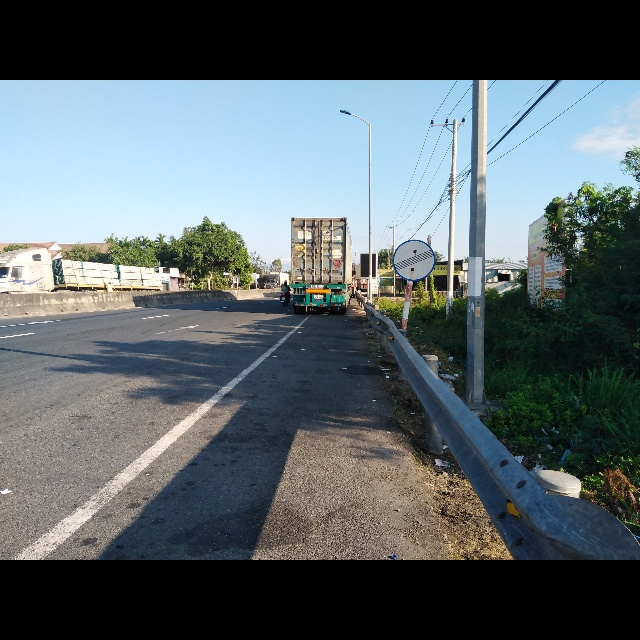Hết tất cả các lệnh cấm: (394, 237, 436, 280)
